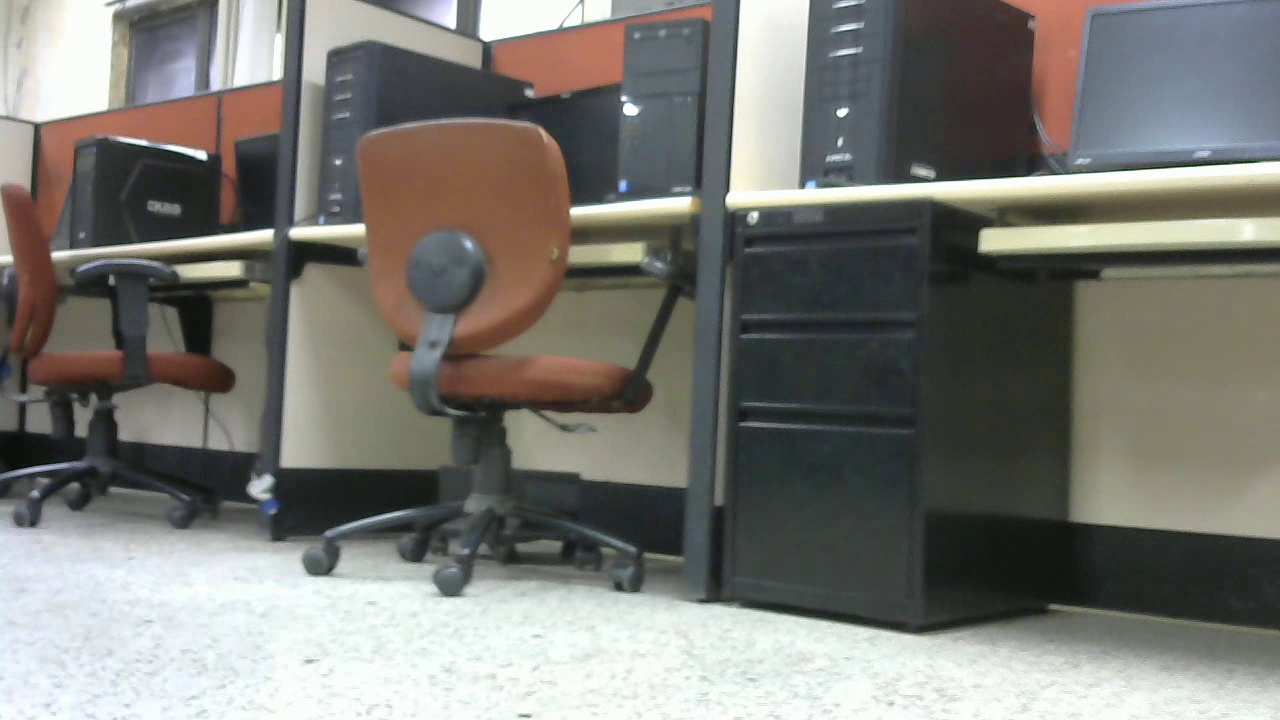chair: (300, 126, 696, 594), (1, 180, 257, 539)
